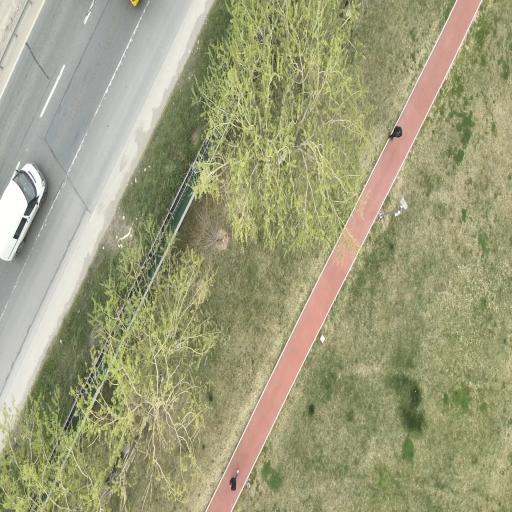car: (0, 164, 46, 260)
person: (230, 470, 239, 490), (390, 126, 402, 139)
